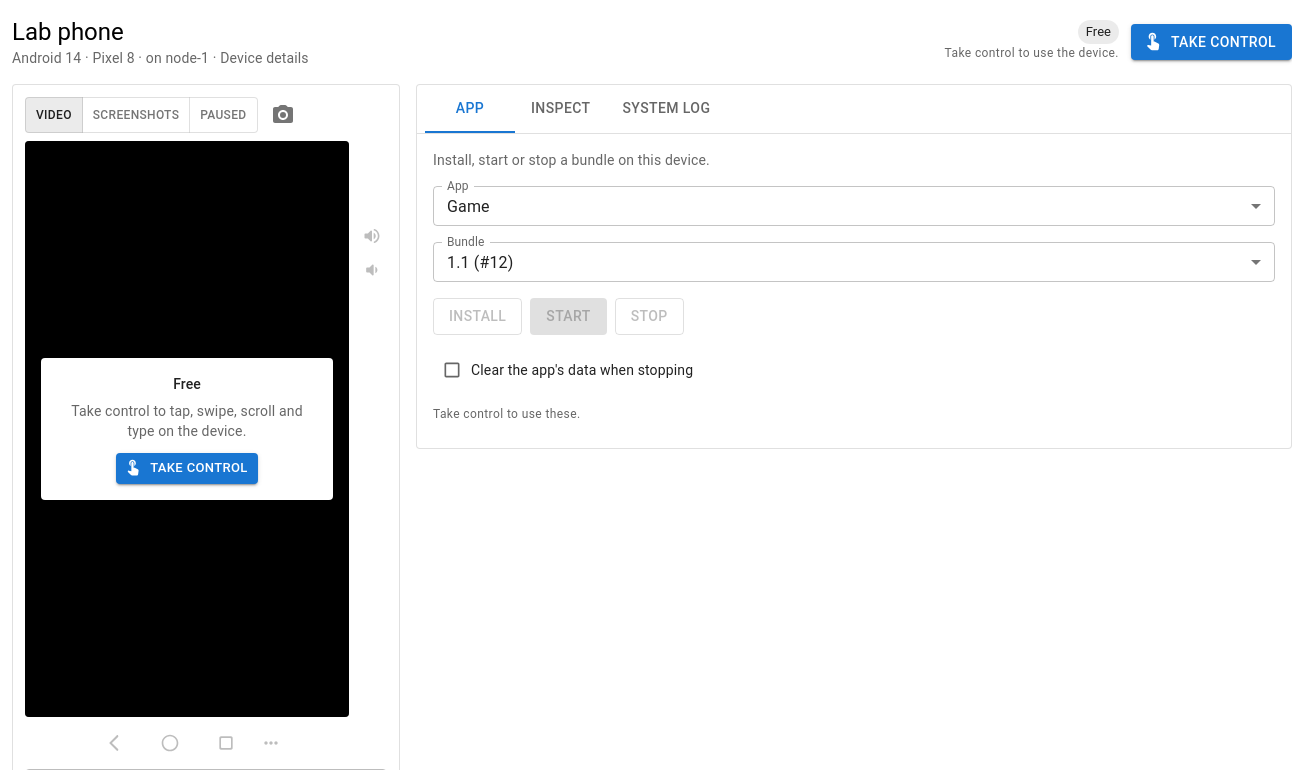
Test: the control page: app actions › lists the bundles of another app
The image size is (1304, 770).
Expected: the heading "Lab phone" is shown, x1=12 y1=18 x2=124 y2=46
Press the mouse on the dropdown named "App": x=468, y=206 x1=447 y1=196 x2=490 y2=216
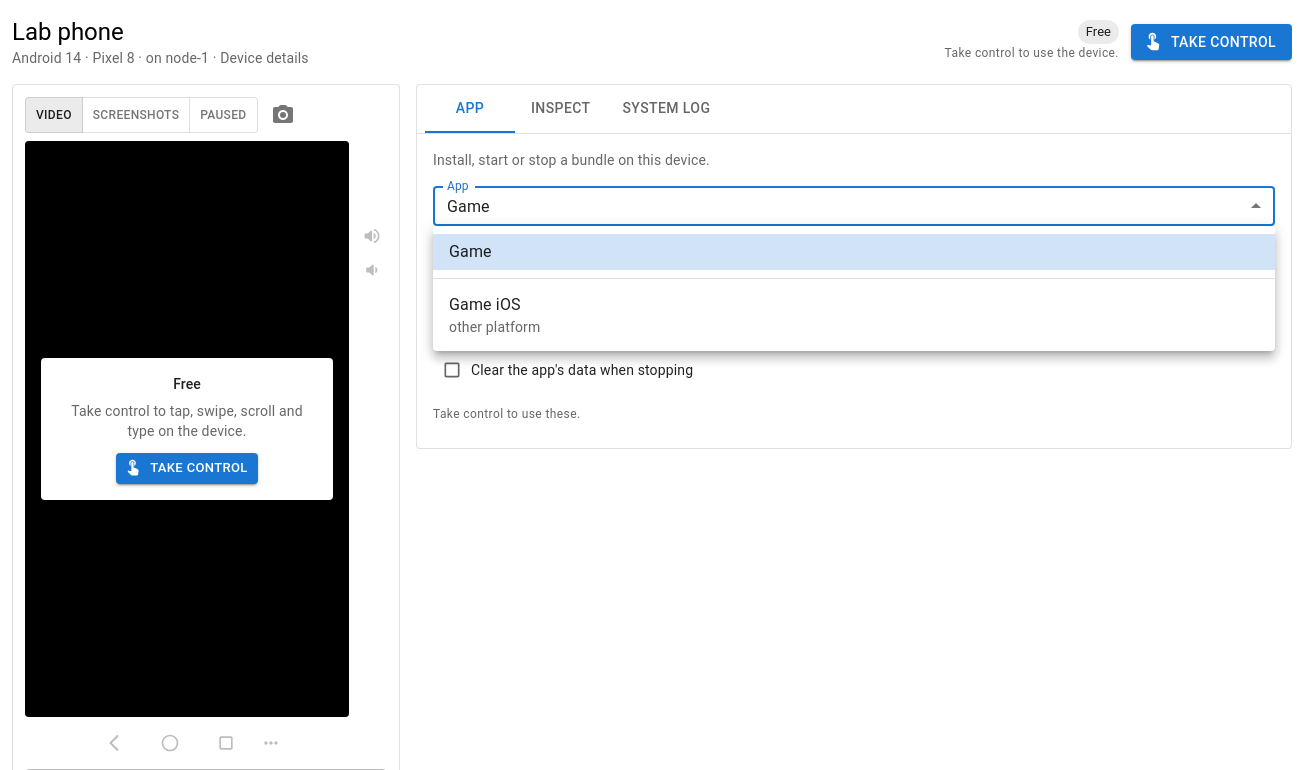
Click the text "Game iOS": x=485, y=304 x1=449 y1=295 x2=521 y2=314
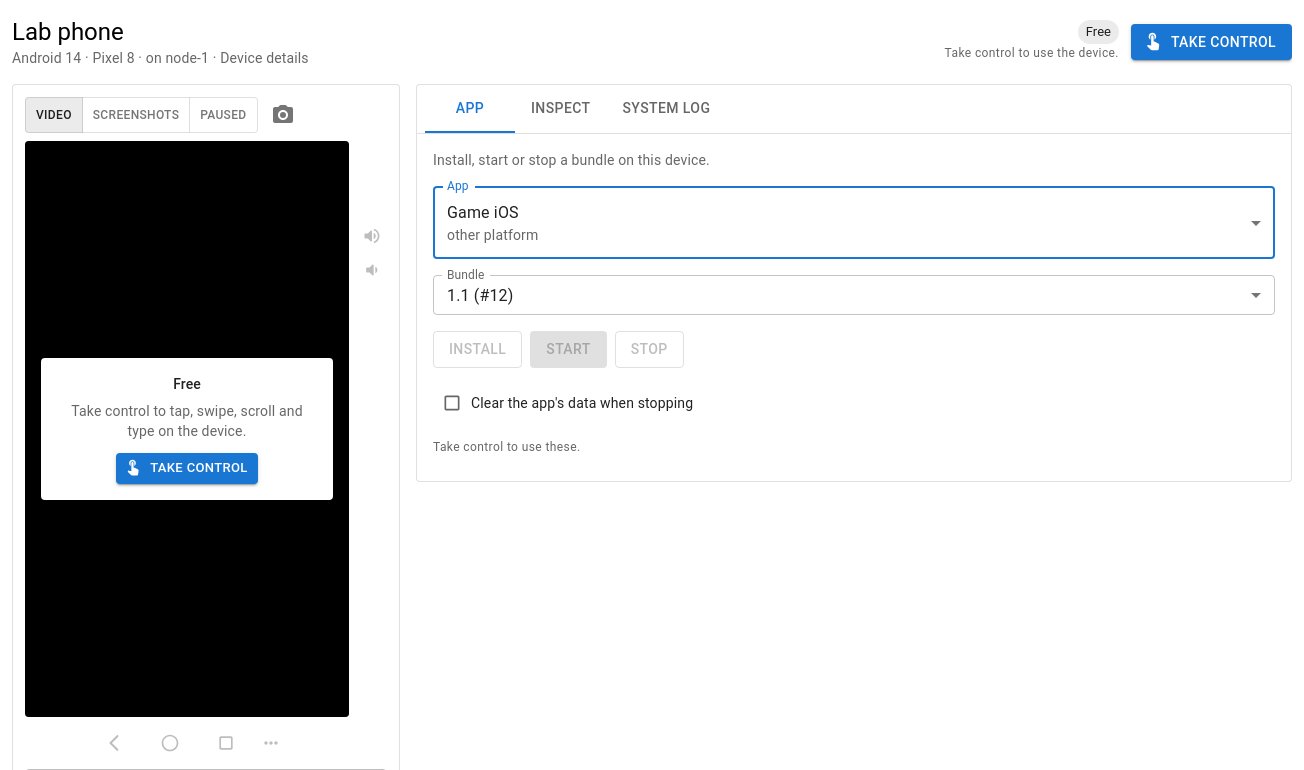
Now the dropdown named "App" shows "Game iOS", box x1=447 y1=202 x2=538 y2=242
